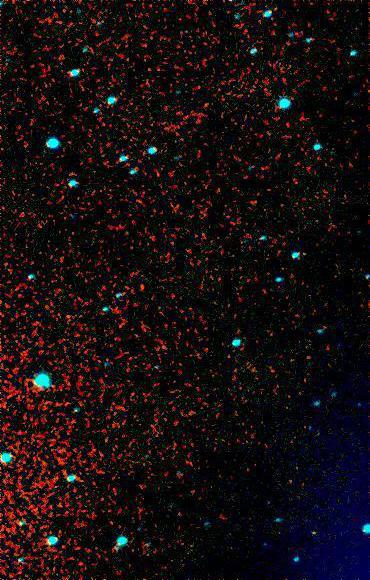star: (297, 519, 327, 549)
